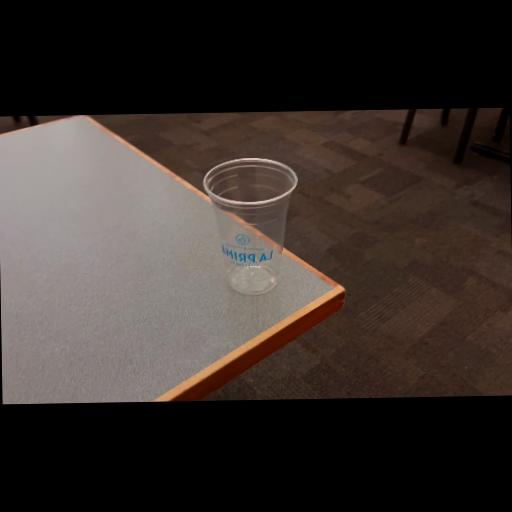lp_plastic_cup: (202, 154, 301, 302)
